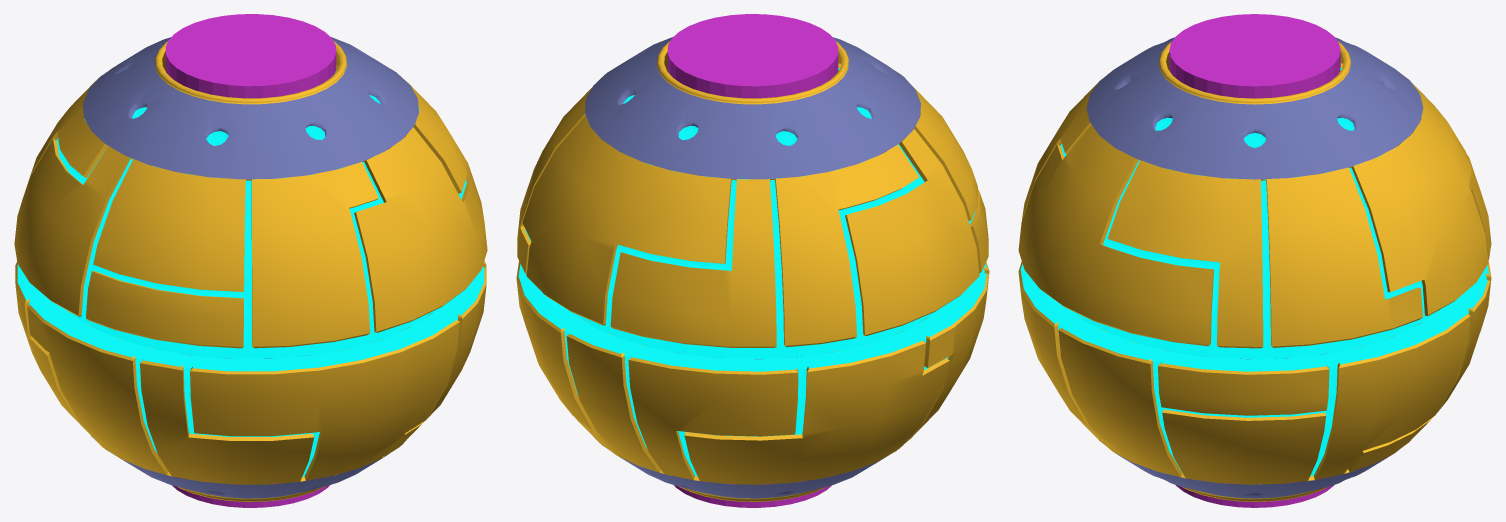
The model's file is fuel_ball.glb.
3 views of the same model, side by side, from view 1: azimuth 30°, elevation 25°; view 2: azimuth 150°, elevation 25°; view 3: azimuth 270°, elevation 25° (orthographic).
Parts seen in each view (by area): view 1: Sphere.001, Sphere.005, Sphereup, Cylinder, Sphere.002, Sphere.007, Cylinder.001; view 2: Sphere.001, Sphere.005, Sphereup, Cylinder, Sphere.002, Sphere.007, Cylinder.001; view 3: Sphere.001, Sphere.005, Sphereup, Cylinder, Sphere.002, Sphere.007, Cylinder.001.
Part boxes in pixels (<box>): Sphere.001: <box>14,51,487,348</box>; Sphere.005: <box>15,261,486,484</box>; Sphereup: <box>83,37,418,179</box>; Cylinder: <box>165,14,336,98</box>; Sphere.002: <box>67,172,435,359</box>; Sphere.007: <box>91,353,406,501</box>; Cylinder.001: <box>172,477,329,507</box>; Sphere.001: <box>517,51,988,347</box>; Sphere.005: <box>516,261,989,484</box>; Sphereup: <box>585,37,920,179</box>; Cylinder: <box>667,14,838,98</box>; Sphere.002: <box>568,170,934,358</box>; Sphere.007: <box>601,352,902,501</box>; Cylinder.001: <box>674,476,832,507</box>; Sphere.001: <box>1018,52,1491,348</box>; Sphere.005: <box>1018,260,1491,484</box>; Sphereup: <box>1086,37,1423,179</box>; Cylinder: <box>1169,14,1340,98</box>; Sphere.002: <box>1072,171,1437,359</box>; Sphere.007: <box>1099,353,1399,501</box>; Cylinder.001: <box>1175,478,1334,507</box>.
Bounding box in the file's own units: 1.99 × 1.95 × 1.99.
